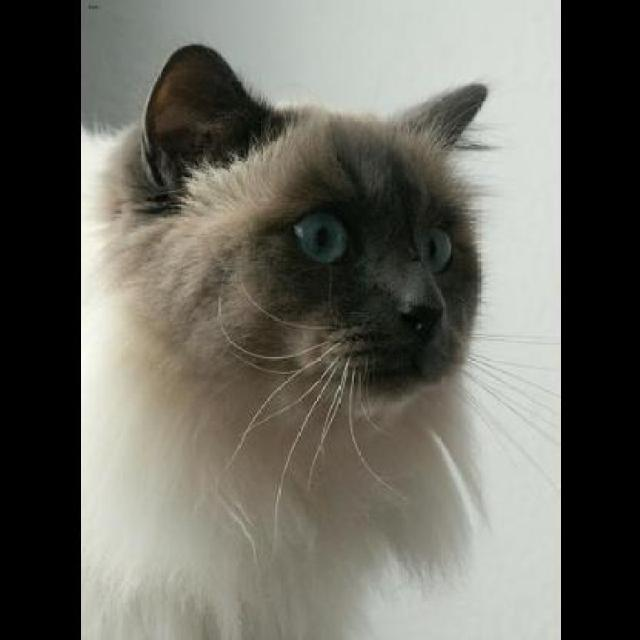unauthorized: (78, 41, 557, 638)
